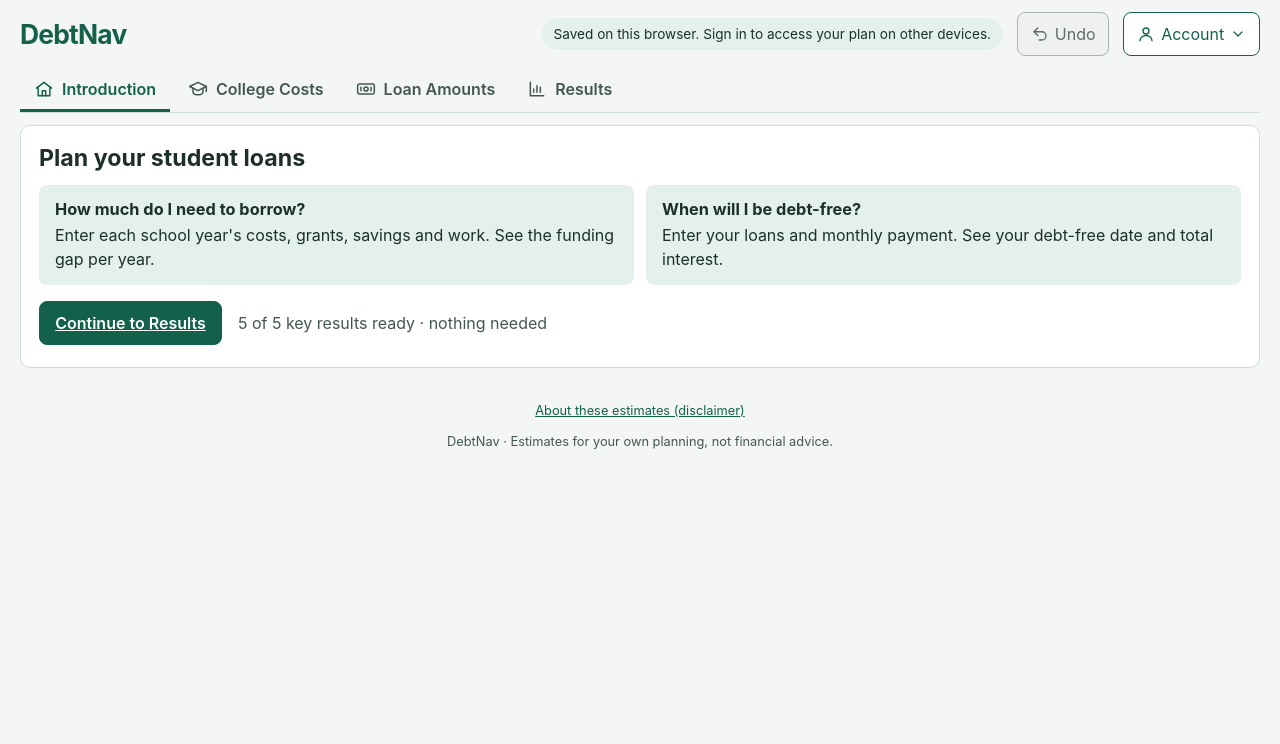
it: review fixes › graduation edits that would start repayment before a loan is disbursed show the error at the field
Click the link "College Costs" at (256, 88), box [188,78,324,98]
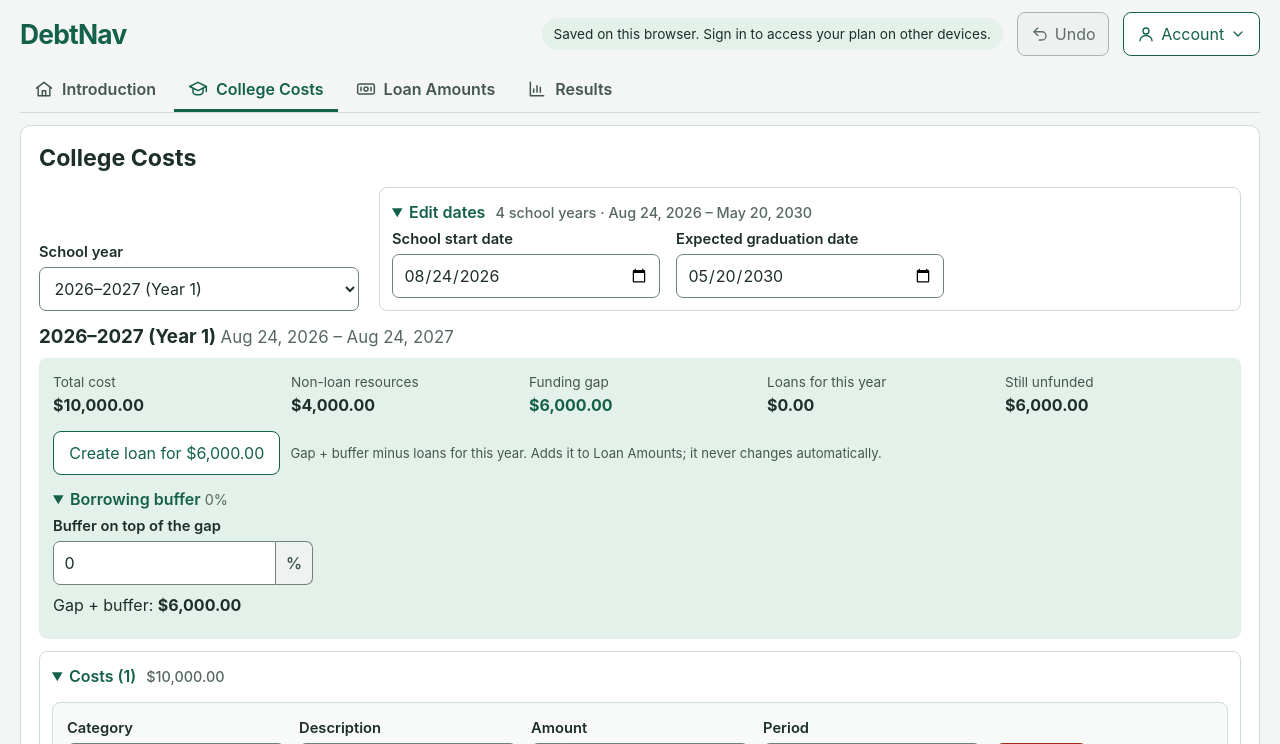
Clear the date field with id "settings" at (810, 276), box [676,254,944,298]
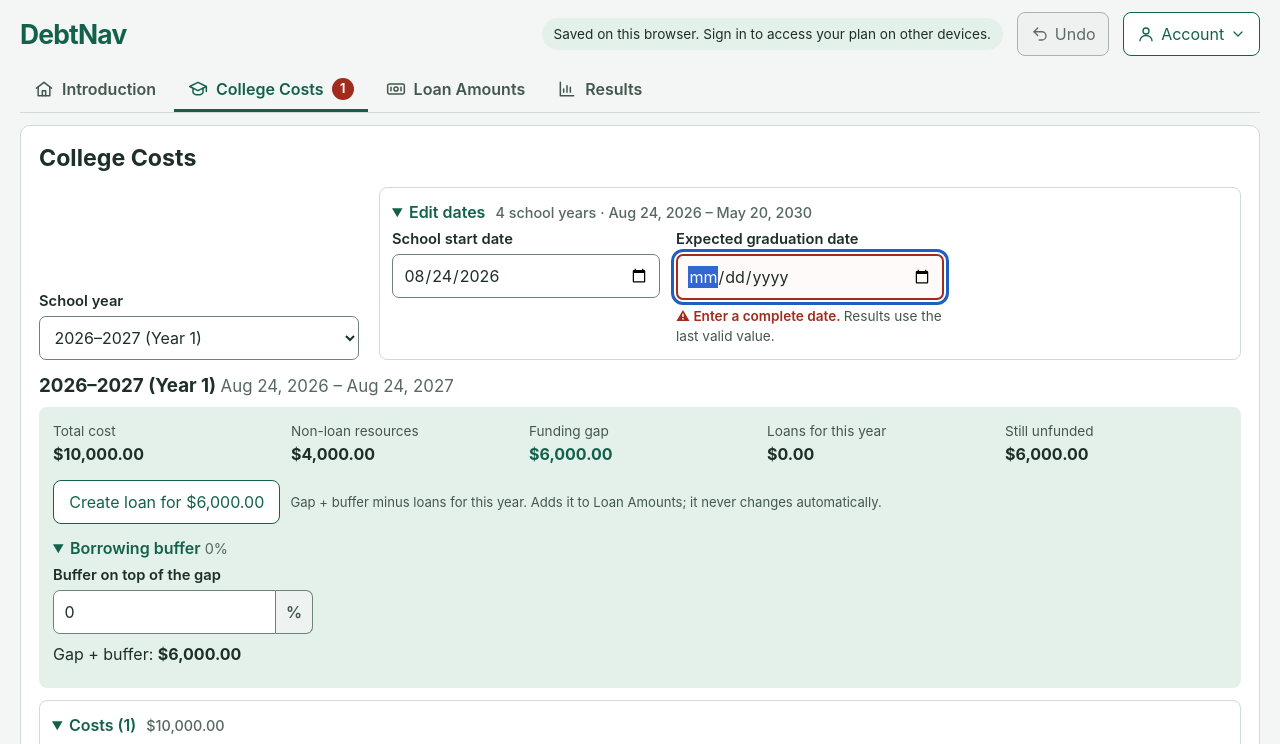
Type "2028-05-20" into the date field with id "settings" at (810, 277), box [676,254,944,300]
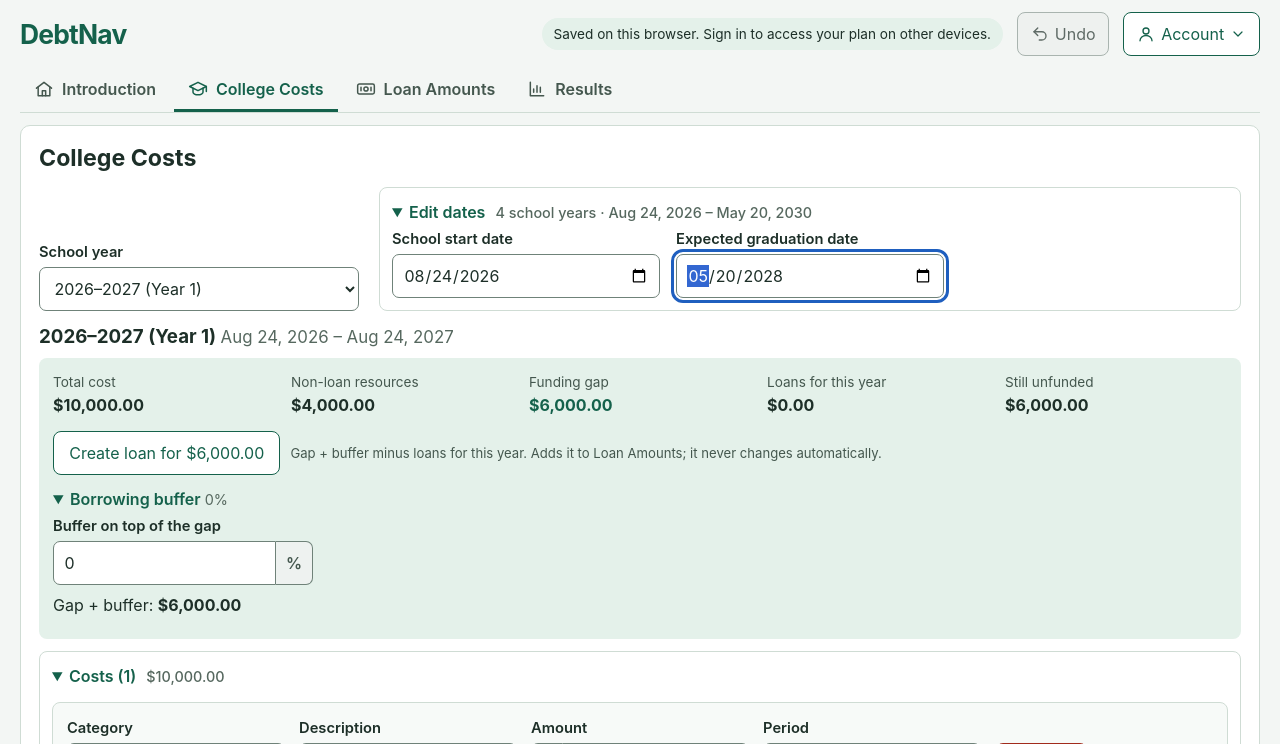
Press Tab
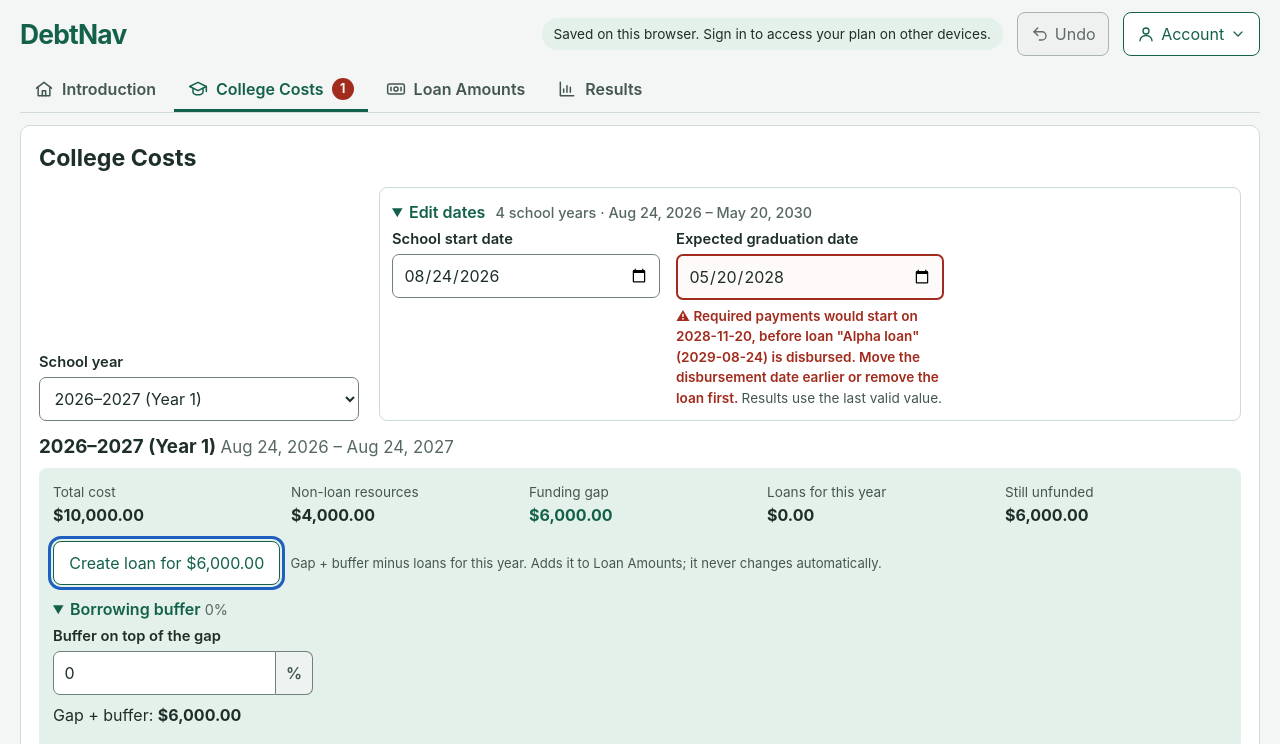
Expected: the element with id "settings" shows "loan", [676,308,939,406]
